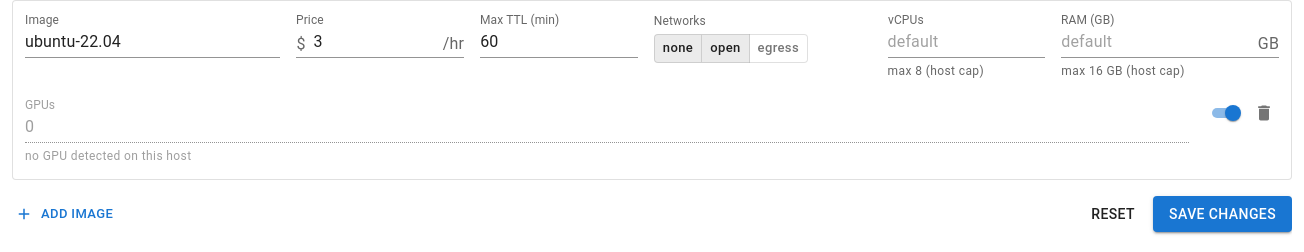
Test: HostImagesEditor › blocks an over-cap vCPU value with the cap in the message
In the number field named "vcpus for ubuntu-22.04": x=966, y=44 top-left (888, 29), bottom-right (1045, 58), type "16"
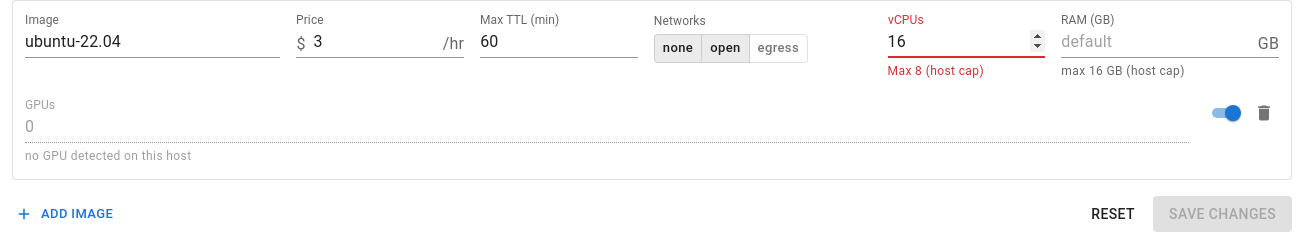
Expected: the text "Max 8 (host cap)" is shown, top-left (888, 64), bottom-right (984, 78)
Result: the button "Save changes" is disabled at top-left (1153, 196), bottom-right (1292, 232)
